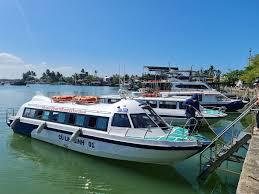Ship: (9, 97, 211, 165), (135, 98, 191, 128), (196, 106, 228, 123)
